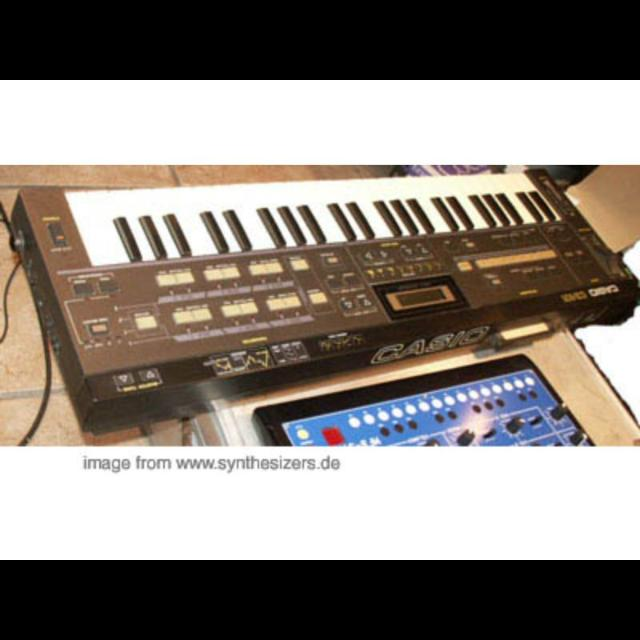Electronic-Keyboard: (14, 176, 628, 356)
